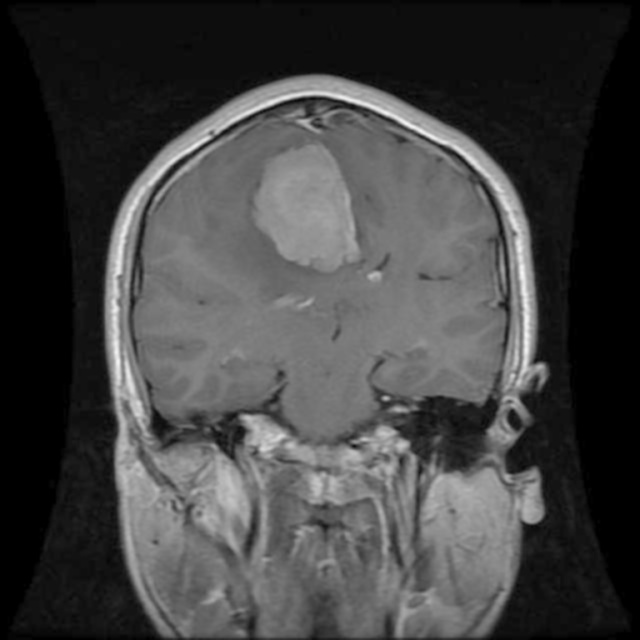meningioma tumor: (239, 128, 381, 282)
